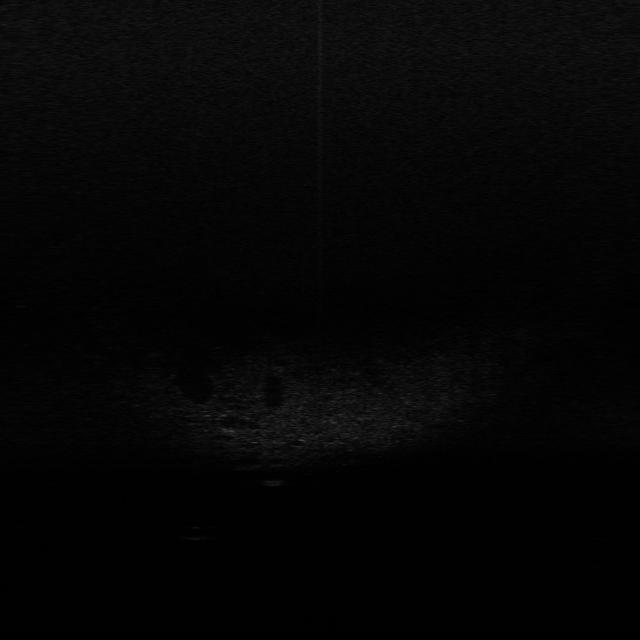ball: (177, 524, 218, 542)
cube: (262, 477, 286, 489)
